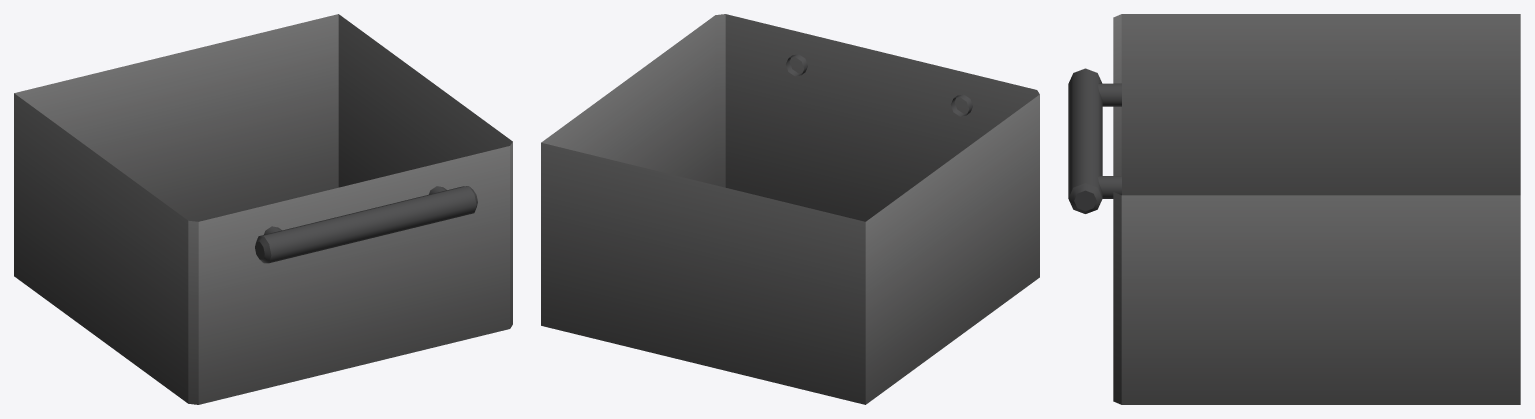
File: Counter_01_v03.fbx
3 views of the same model, side by side, from view 1: azimuth 30°, elevation 25°; view 2: azimuth 150°, elevation 25°; view 3: azimuth 270°, elevation 25° (orthographic). The views are drawn at different scales.
Parts seen in each view (by area): view 1: Counter_01_v03; view 2: Counter_01_v03; view 3: Counter_01_v03.
Part boxes in pixels (x1,y1,x2,y2): Counter_01_v03: (14, 14, 512, 404); Counter_01_v03: (541, 14, 1039, 404); Counter_01_v03: (1068, 14, 1520, 404).
Bounding box in the file's own units: 100 × 53.91 × 105.
